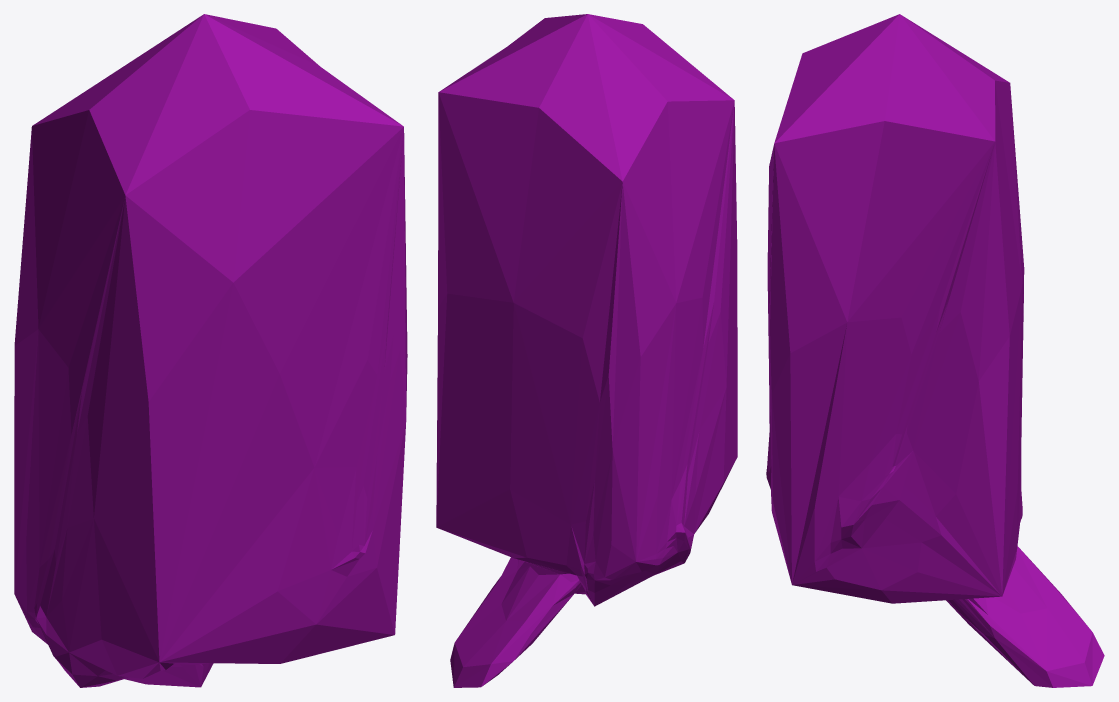
3 renders of one model, left to right at view 1: azimuth 30°, elevation 25°; view 2: azimuth 150°, elevation 25°; view 3: azimuth 270°, elevation 25°, orthographic. The views are drawn at different scales.
Parts seen in each view (by area): view 1: 161_Cube.672; view 2: 161_Cube.672; view 3: 161_Cube.672.
Boxes of the visible parts, box(x1,y1,x2,y2) form: 161_Cube.672: box(14, 14, 407, 687); 161_Cube.672: box(436, 14, 737, 687); 161_Cube.672: box(766, 14, 1104, 687).
Size of the model in its own units: 6.13 by 15 by 7.08.
